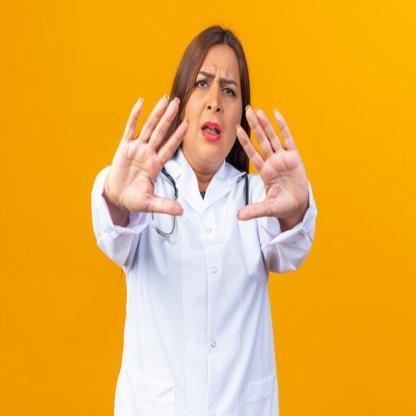stop: (105, 93, 192, 219), (233, 102, 310, 223)
